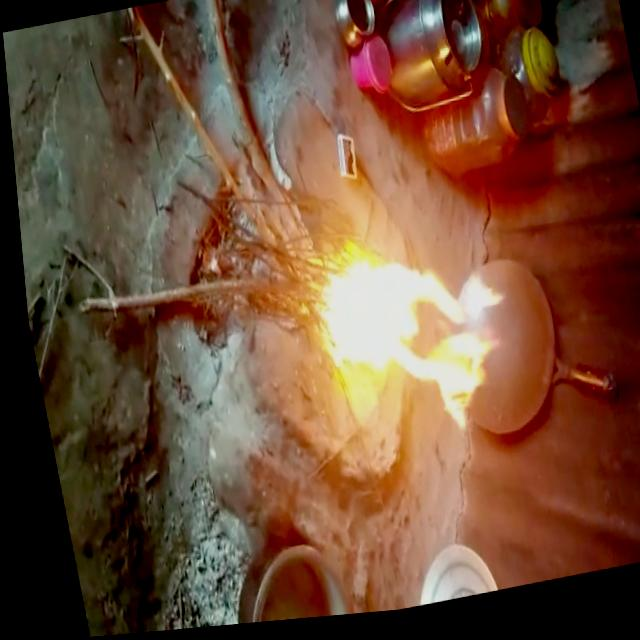Fire: (298, 227, 520, 462)
